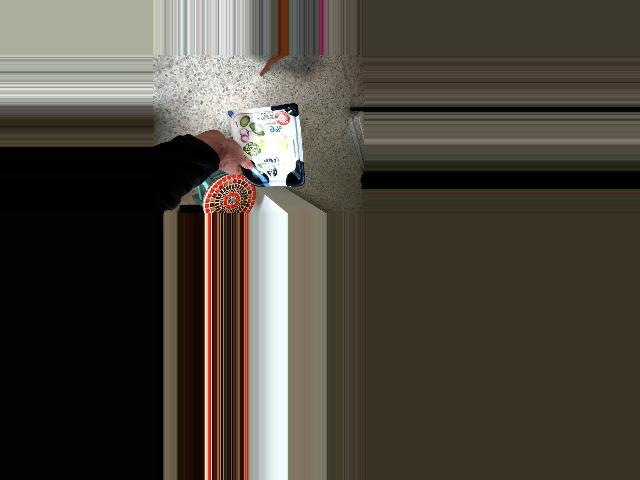cheese: (203, 103, 287, 185)
